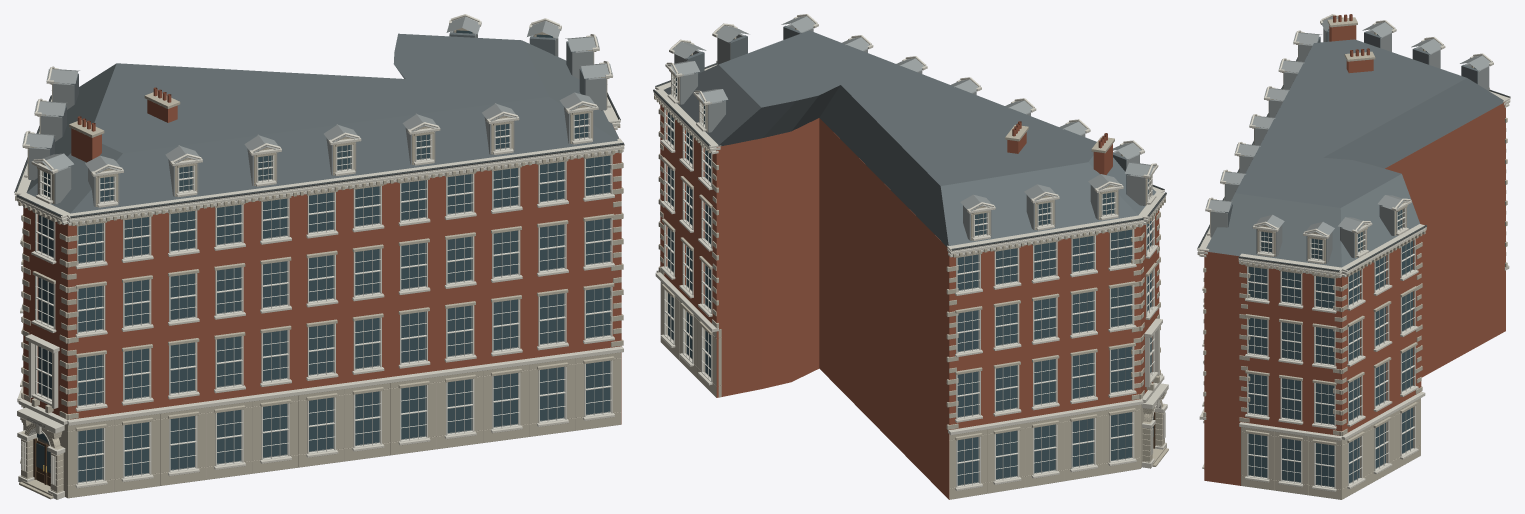
The model's file is cow-exterior-0f3173505d40.glb.
3 views of the same model, side by side, from view 1: azimuth 30°, elevation 25°; view 2: azimuth 150°, elevation 25°; view 3: azimuth 270°, elevation 25° (orthographic). The views are drawn at different scales.
Visible parts, largest first — view 1: COW.001; view 2: COW.001; view 3: COW.001.
Boxes of the visible parts, bbox=[...] form: COW.001: bbox=[14, 14, 624, 499]; COW.001: bbox=[653, 14, 1168, 499]; COW.001: bbox=[1197, 14, 1510, 499].
Bounding box in the file's own units: 38.05 × 22.48 × 22.3.
